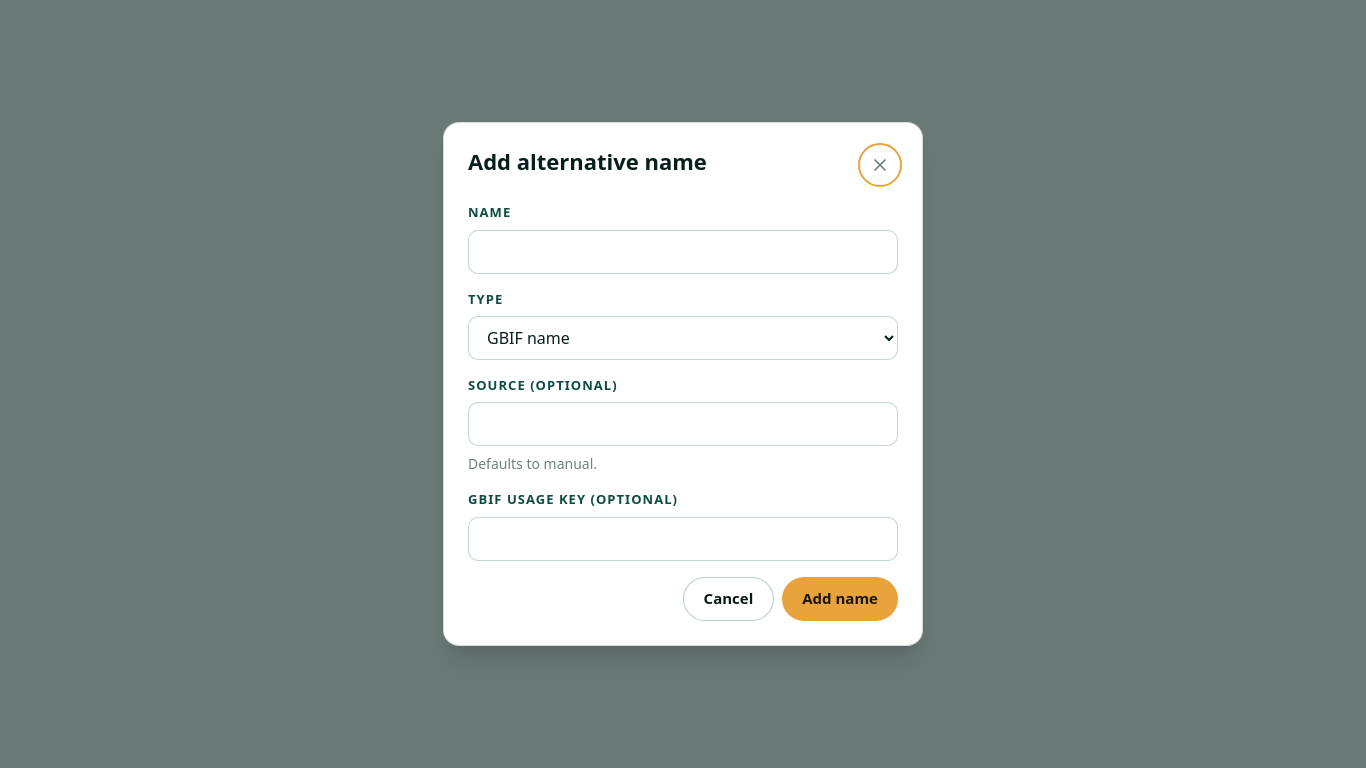
Test: RFC-60 R9 AddNameDialog › requires the name; omits an empty key; maps SPECIES_NAME_TAKEN under the name
Step 1. Click the button "Add name" → (840, 598), box [782,576,898,620]
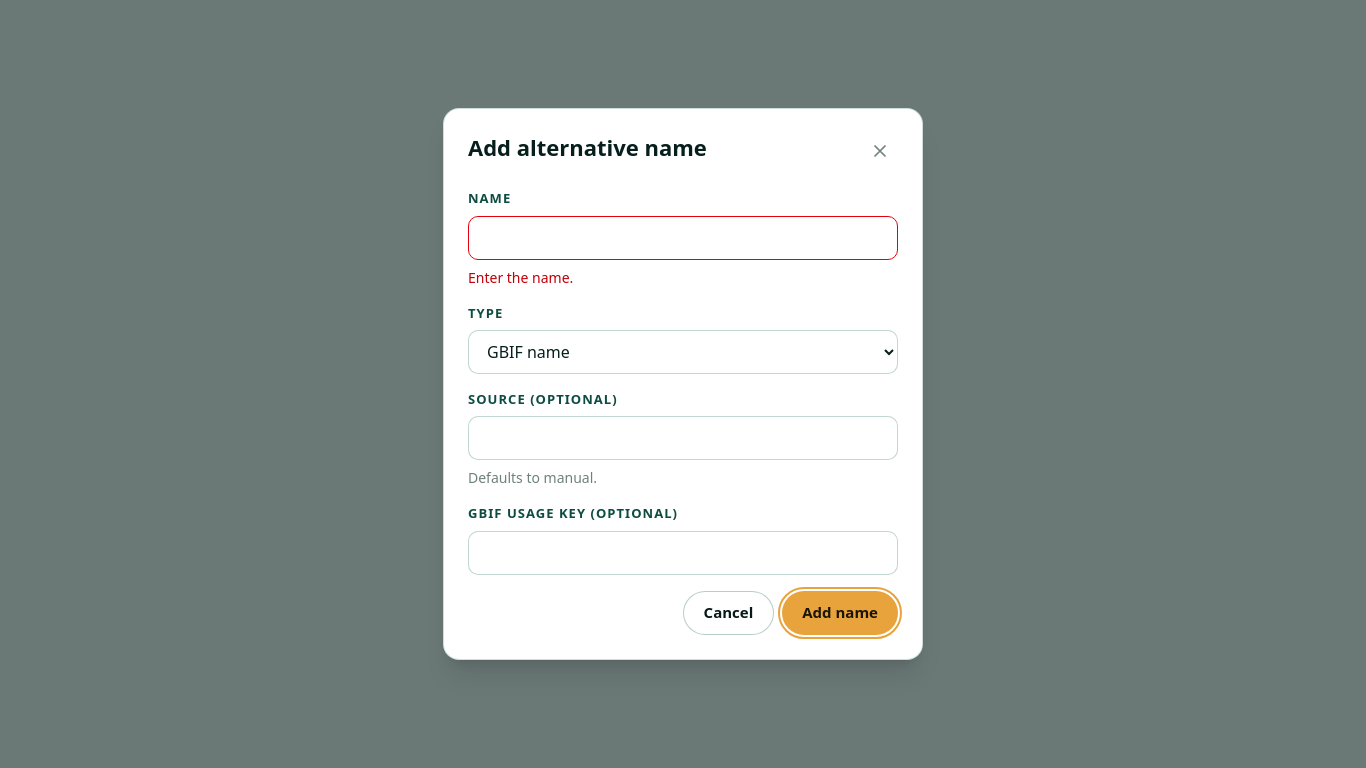
Expected: the text "Enter the name." is shown, [468,268,573,286]
Step 2. Type "Adenanthera pavonina" into the field labelled "Name" → (683, 238), box [468,216,898,260]
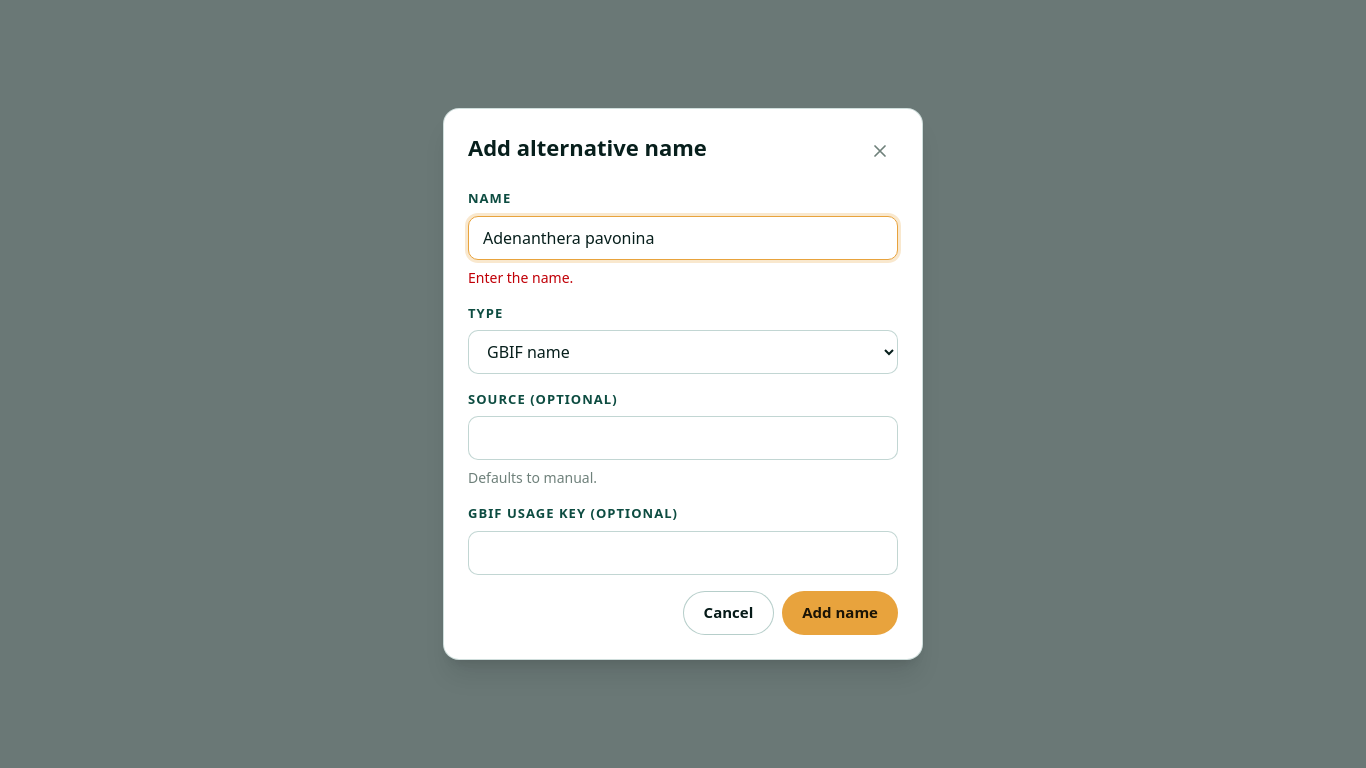
Step 3. Click the button "Add name" → (840, 613), box [782,591,898,635]
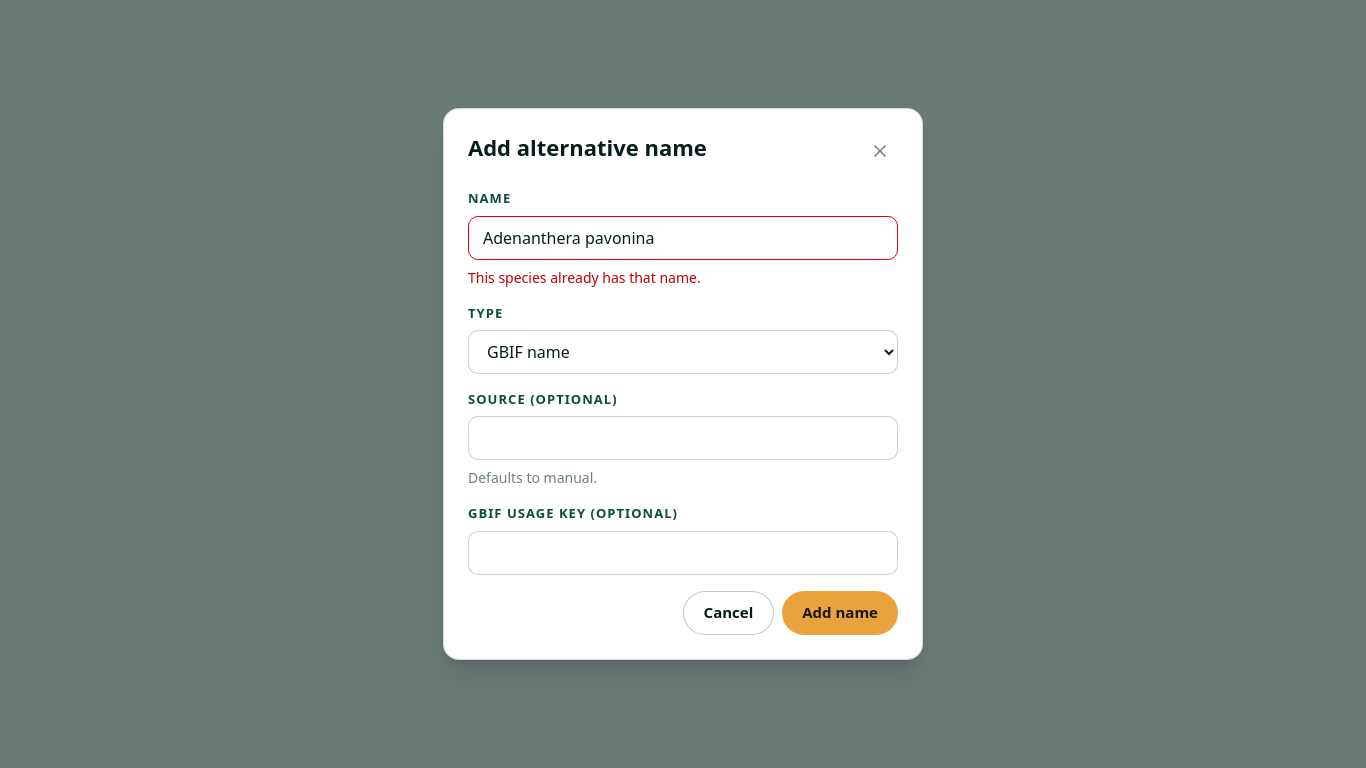
Expected: the text "This species already has that name." is shown, [468,268,701,286]
